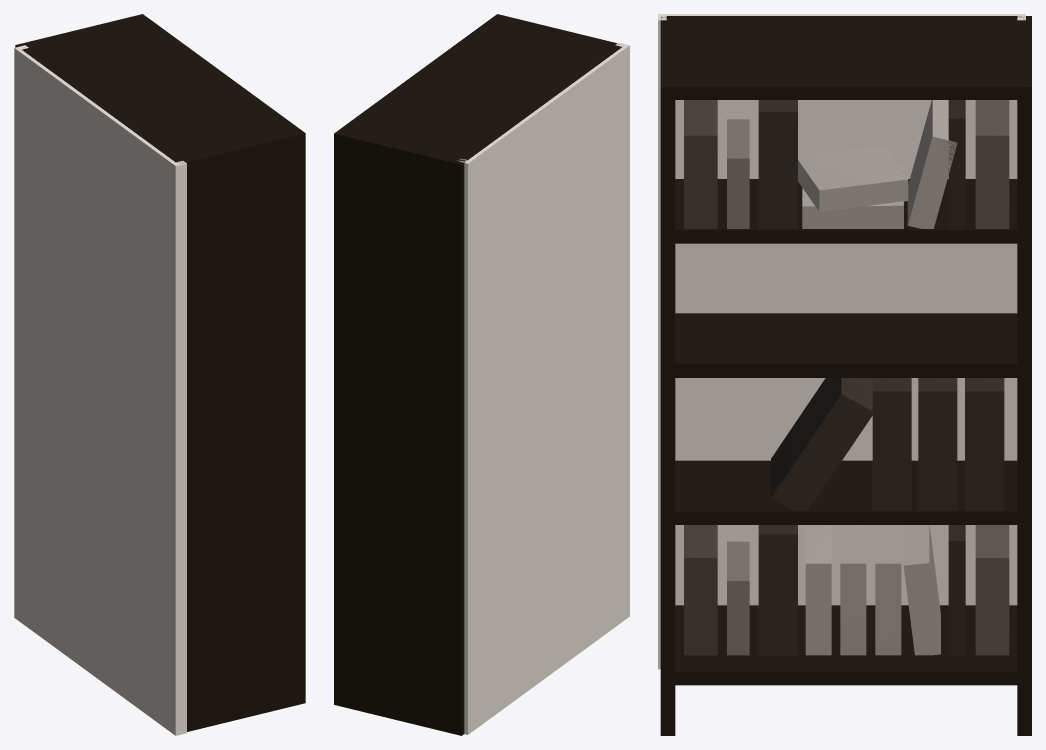
The model's file is Bookcase.fbx.
The picture shows the model from 3 angles, left to right: view 1: azimuth 30°, elevation 25°; view 2: azimuth 150°, elevation 25°; view 3: azimuth 270°, elevation 25°; orthographic projection. The views are drawn at different scales.
Visible parts, largest first — view 1: Bookcase; view 2: Bookcase; view 3: Bookcase.
Part boxes in pixels (box(x1,y1,x2,y2)): Bookcase: box(14, 14, 305, 735); Bookcase: box(334, 14, 629, 735); Bookcase: box(658, 14, 1031, 735).
Size of the model in its own units: 9.1 by 37.79 by 19.73.
1 material, 1 textured.
